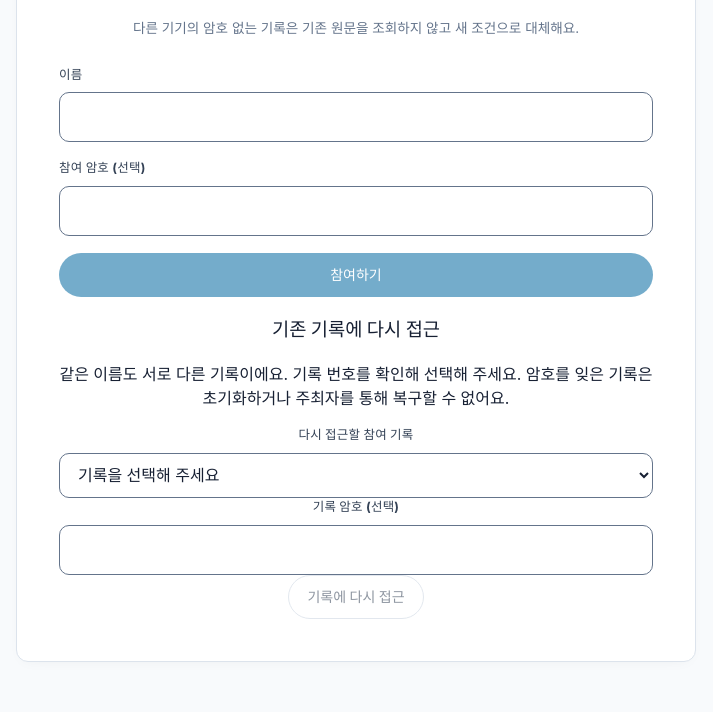
#108 RoomPage verified access restores only the server-authorized viewer › keeps wrong-password response details private and never reads or replaces the original
(page scrolled)
Select "민수 · 22222222-2222-4222-8222-222222222222" in the dropdown labelled "다시 접근할 참여 기록". click: coordinates (356, 476)
box: [59,453,653,498]
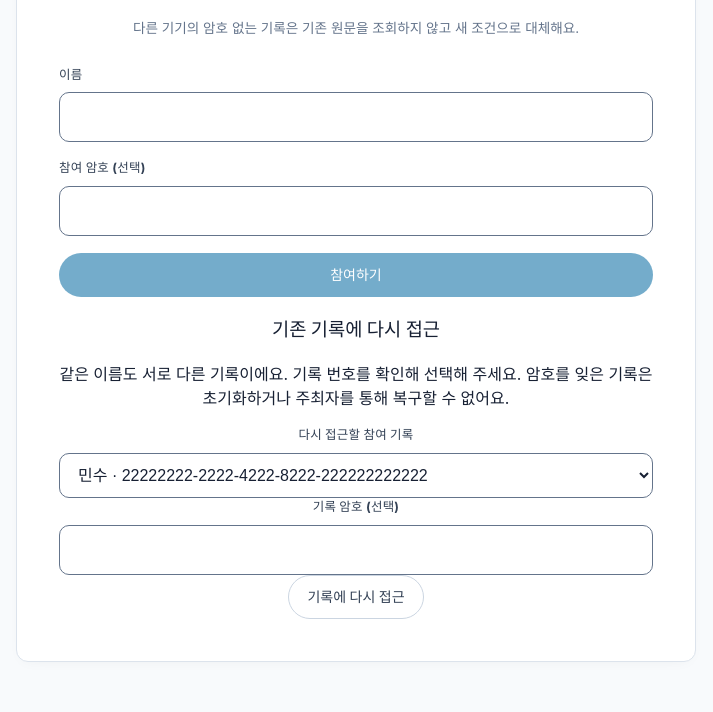
Type "wrong-password" into the password field labelled "기록 암호 (선택)". click: coordinates (356, 550)
box: [59,525,653,575]
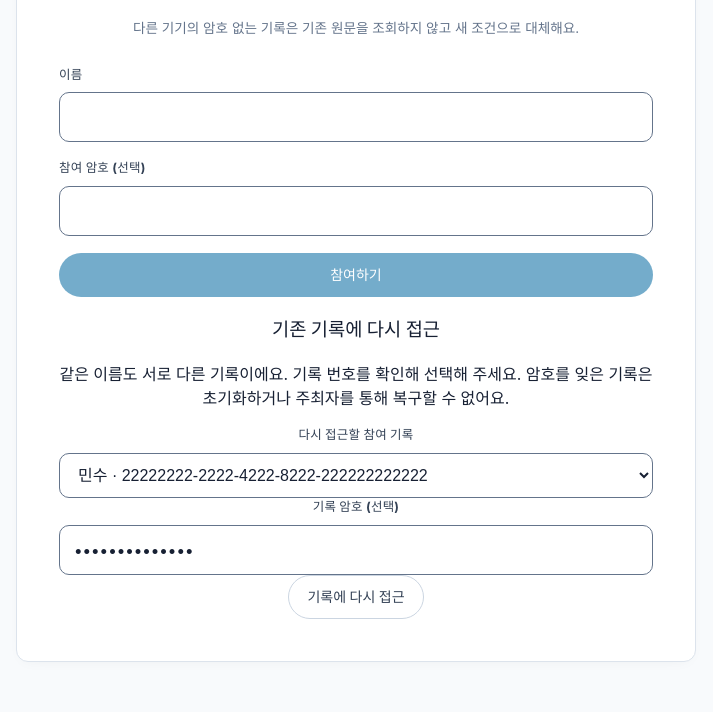
Click the button "기록에 다시 접근". click: coordinates (356, 597)
box: [288,575,424,619]
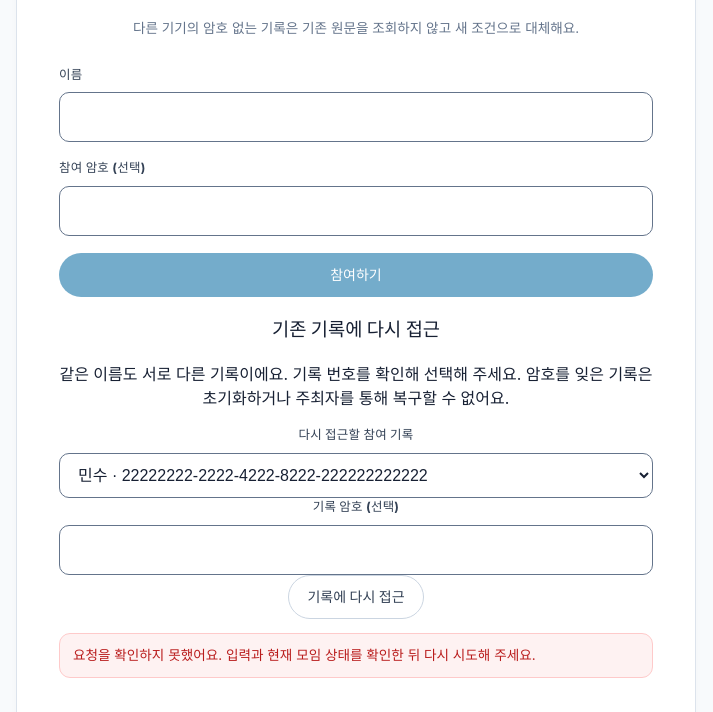
Result: the message "요청을 확인하지 못했어요. 입력과 현재 모임 상태를 확인한 뒤 다시 시도해 주세요." is shown at [59,632,653,678]
Result: the password field labelled "기록 암호 (선택)" is empty at [59,525,653,575]
